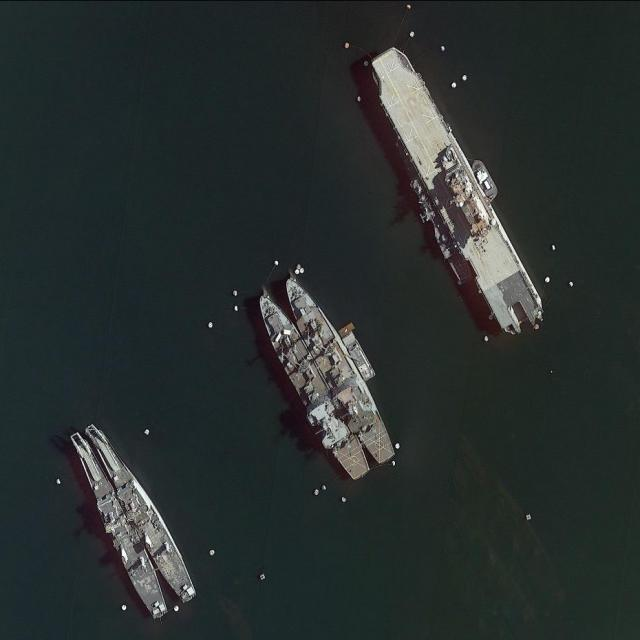Auxiliary Ships: (244, 289, 376, 484), (273, 273, 404, 467), (52, 430, 180, 621), (81, 418, 203, 606)
Landing: (358, 41, 551, 341)
